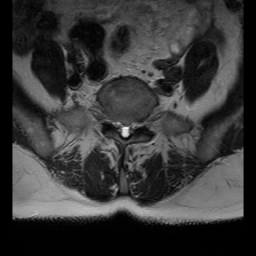CCS_severe_stenosis: (121, 115, 128, 145)
LFS_stenosis: (136, 112, 144, 133)
LLS_normal: (128, 115, 136, 140)
RFS_stenosis: (105, 109, 114, 132)
RLS_normal: (114, 114, 121, 139)
